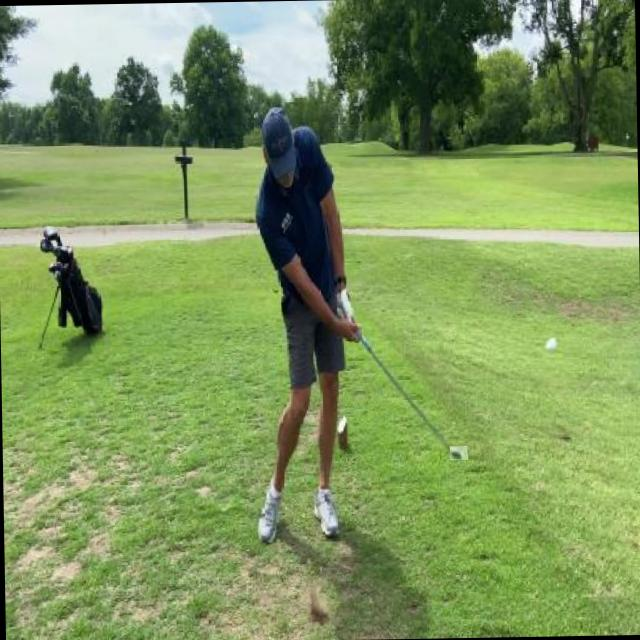club head: (450, 446, 468, 460)
